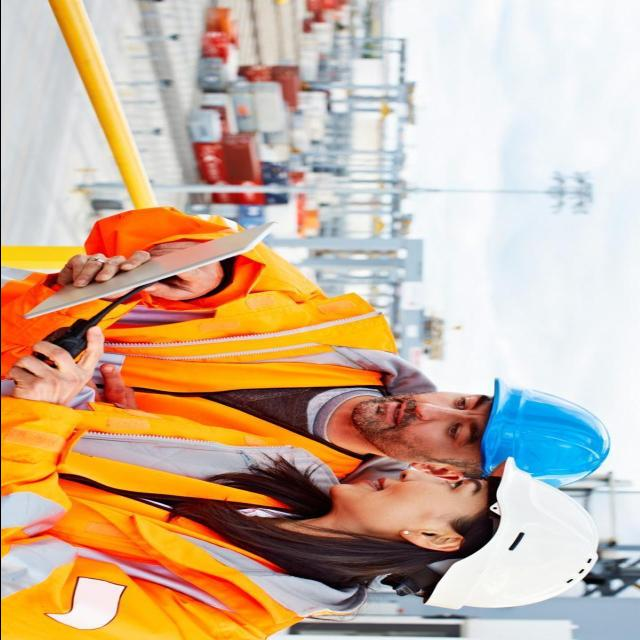helmet: (421, 454, 609, 618)
